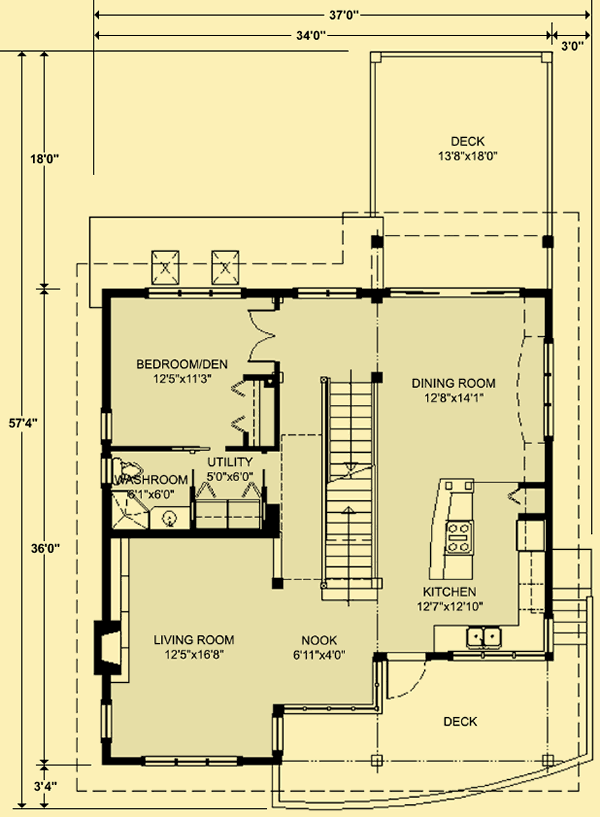bathroom has a shower space, small and large sinks: (99, 443, 195, 536)
kitchen has a kitchen bar, cooking tange and sink with other cooking facility: (407, 471, 556, 664)
